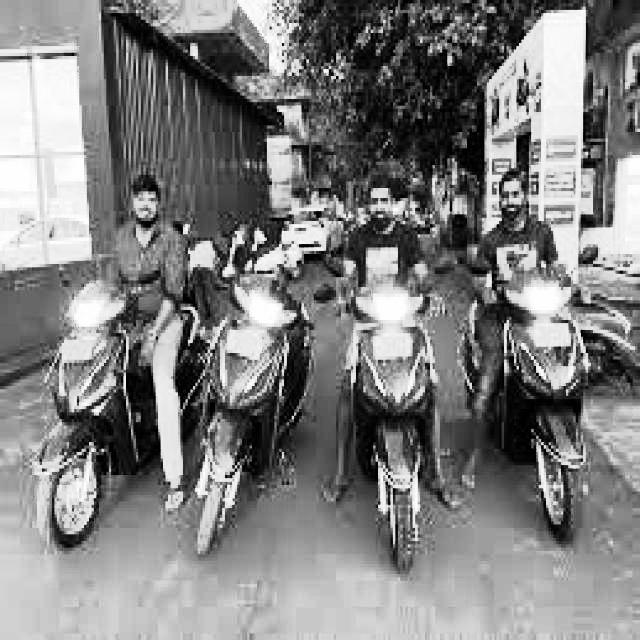Bike: (38, 269, 196, 561), (337, 268, 457, 574), (484, 264, 605, 546), (205, 267, 312, 563)
